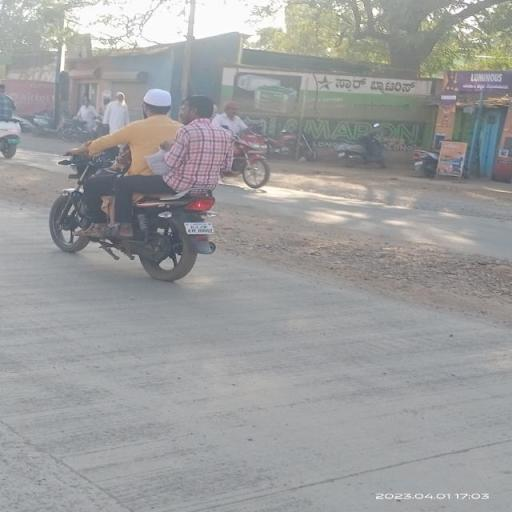bike: (42, 84, 240, 283)
numberplate: (187, 224, 215, 236)
withouthelmet: (181, 94, 217, 120), (144, 88, 171, 115)
